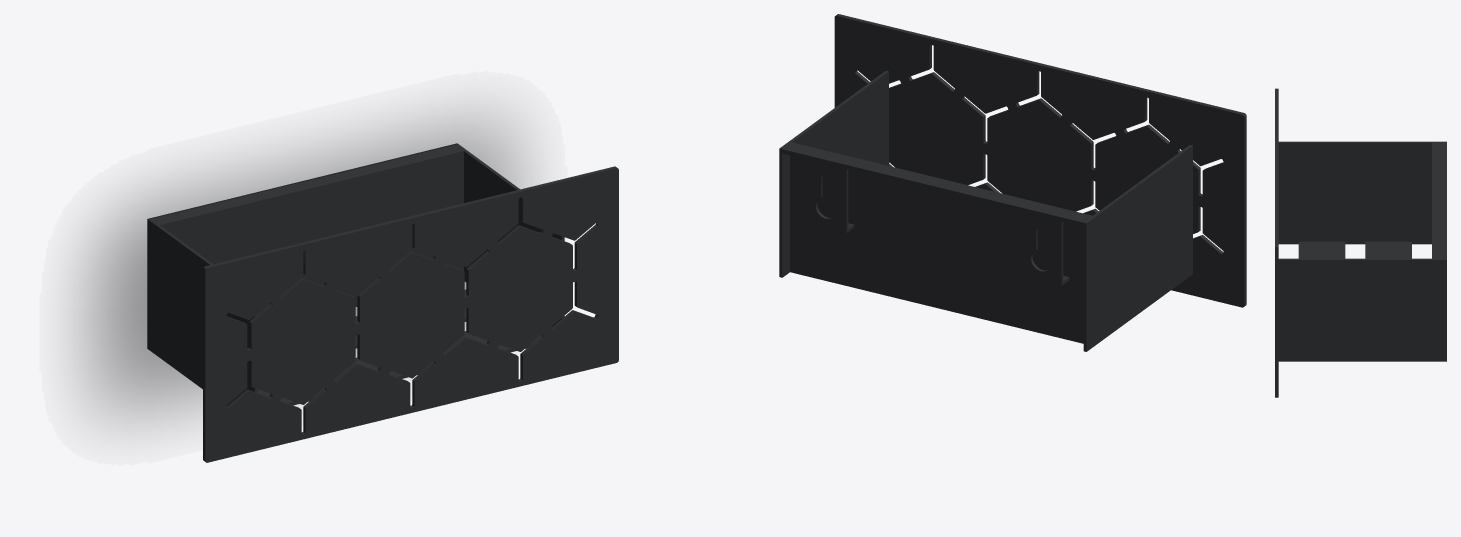
Rendered from bee-mono.2da4a2c530.ar.glb.
3 views of the same model, side by side, from view 1: azimuth 30°, elevation 25°; view 2: azimuth 150°, elevation 25°; view 3: azimuth 270°, elevation 25° (orthographic). The views are drawn at different scales.
Visible parts, largest first — view 1: NAUO1, object 2; view 2: NAUO1; view 3: NAUO1.
Part boxes in pixels (x1=…): NAUO1: x1=147, y1=143, x2=618, y2=462; object 2: x1=79, y1=117, x2=527, y2=419; NAUO1: x1=779, y1=14, x2=1246, y2=351; NAUO1: x1=1275, y1=88, x2=1446, y2=397.
Bounding box in the file's own units: 0.28 × 0.17 × 0.092.
2 materials, 1 textured.
